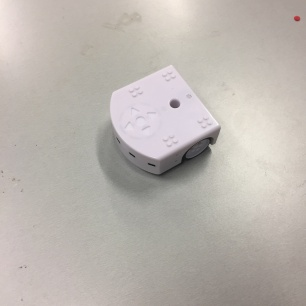thymio: (109, 59, 221, 180)
